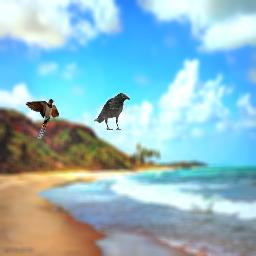Crow: (94, 93, 130, 130)
Swallow: (26, 99, 59, 139)
